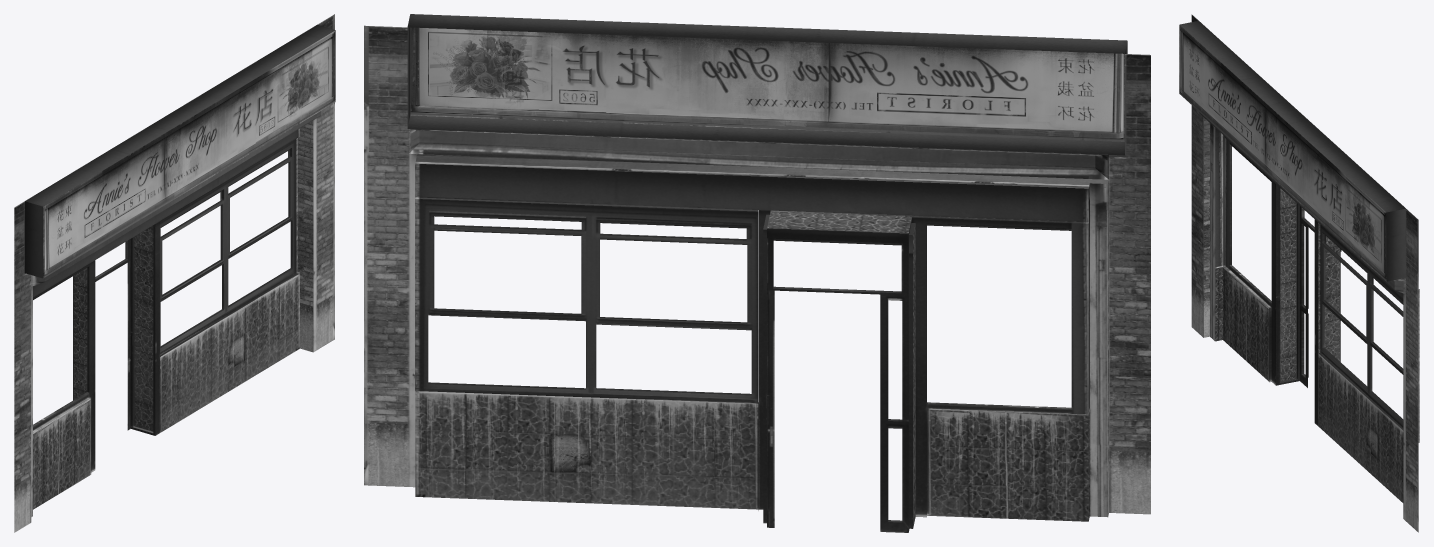
File: chinatown_florist.fbx
The picture shows the model from 3 angles, left to right: view 1: azimuth 30°, elevation 25°; view 2: azimuth 150°, elevation 25°; view 3: azimuth 270°, elevation 25°; orthographic projection. The views are drawn at different scales.
Parts seen in each view (by area): view 1: chinatown_florist; view 2: chinatown_florist; view 3: chinatown_florist.
Boxes of the visible parts, x1,y1,x2,y2 form: chinatown_florist: (14, 14, 335, 532); chinatown_florist: (364, 14, 1150, 532); chinatown_florist: (1179, 14, 1419, 532).
Bounding box in the file's own units: 818 × 580 × 404.
